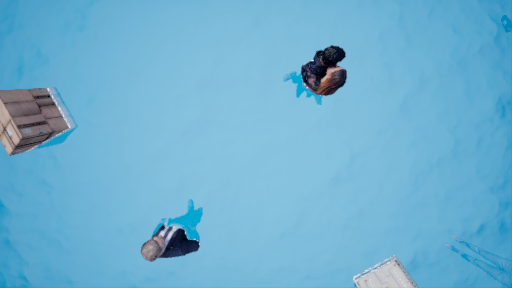person: (135, 196, 209, 264), (288, 46, 368, 108)
